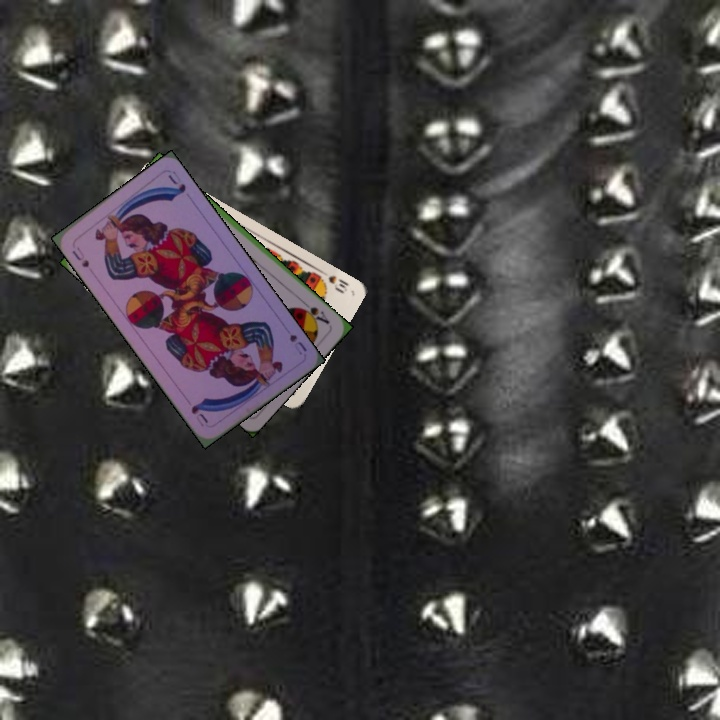S10: (316, 266, 351, 296)
SA: (295, 298, 332, 327)
SU: (285, 330, 310, 357), (68, 243, 92, 270)
